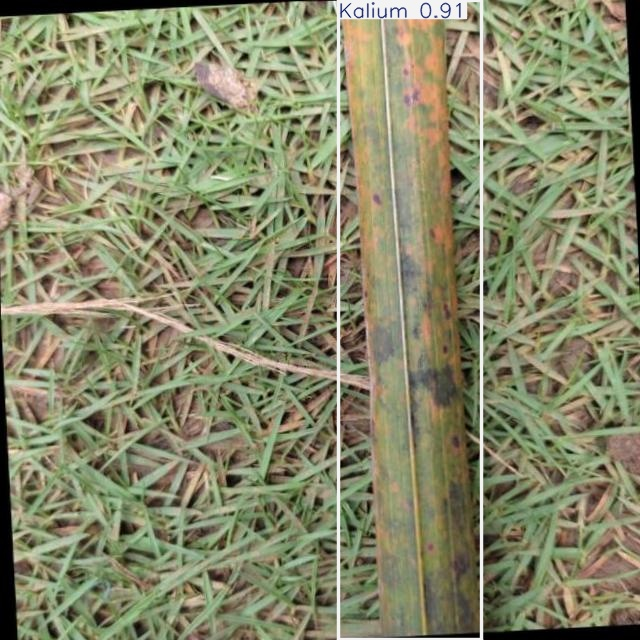Kalium: (338, 0, 482, 640)
